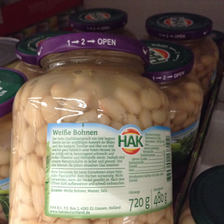beans: (13, 32, 172, 224)
